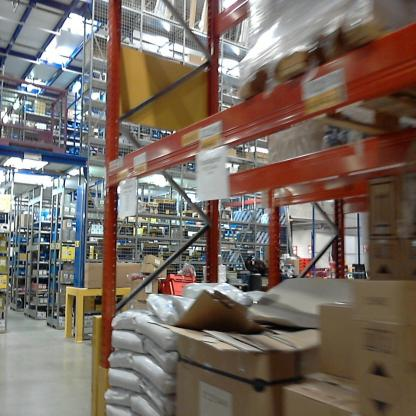pallet: (236, 15, 413, 142)
small_load_carrier: (161, 265, 196, 304)
stillage: (1, 64, 73, 155)
